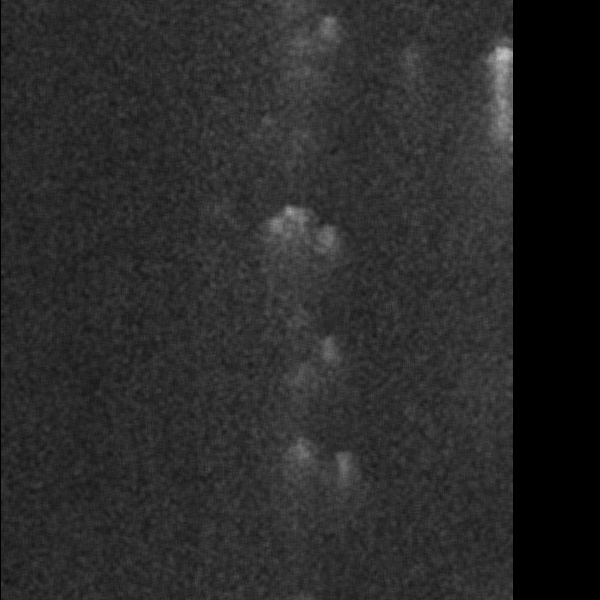spark: (145, 270, 193, 319)
